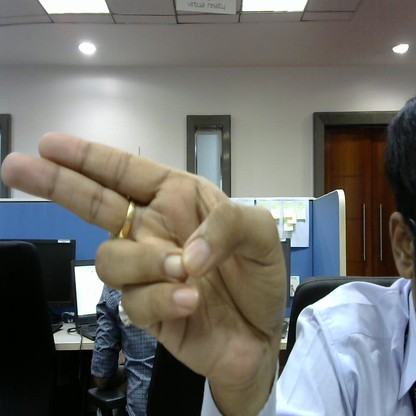h: (1, 108, 294, 389)
